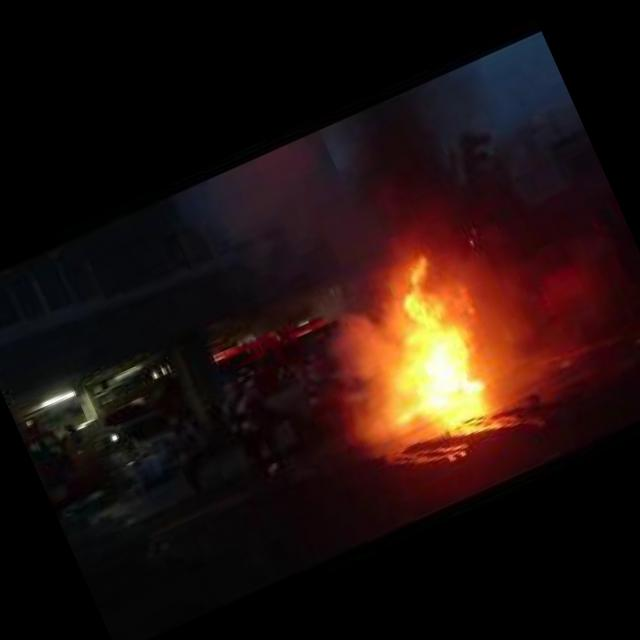fire: (330, 254, 492, 434)
smoke: (162, 59, 556, 363)
